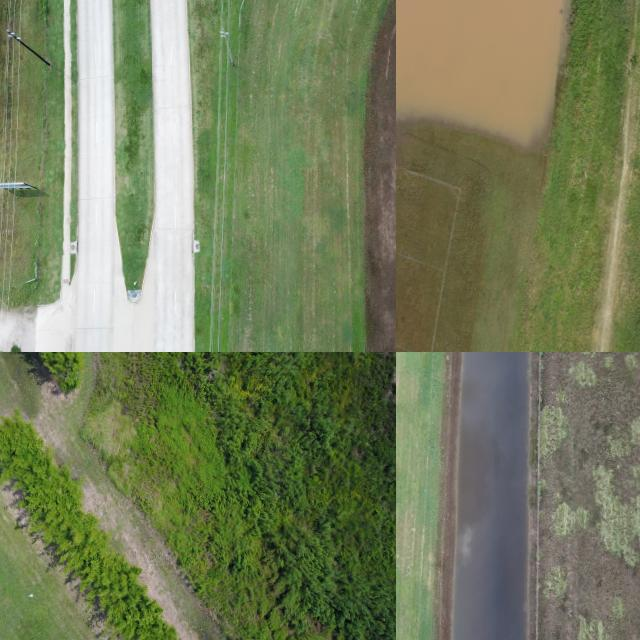fire: (396, 0, 564, 144), (452, 352, 529, 640)
